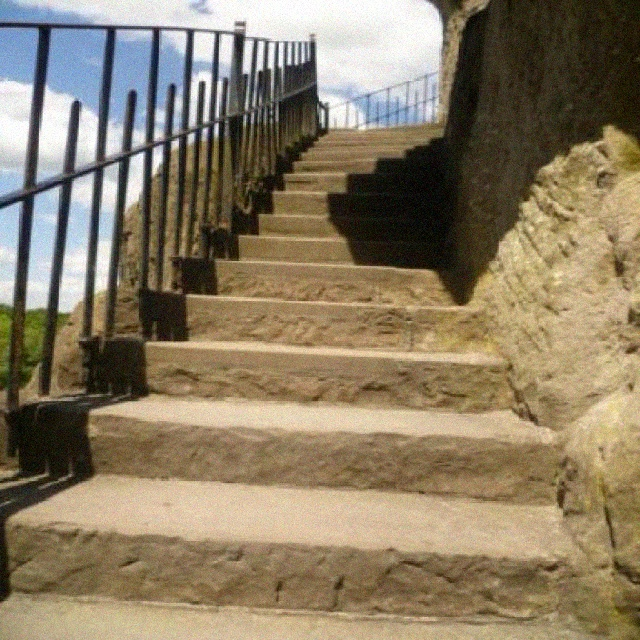stair: (2, 116, 588, 638)
